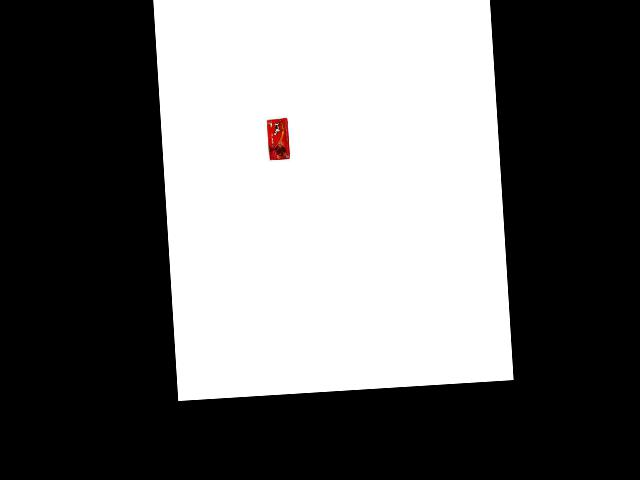chocolate: (266, 115, 292, 160)
